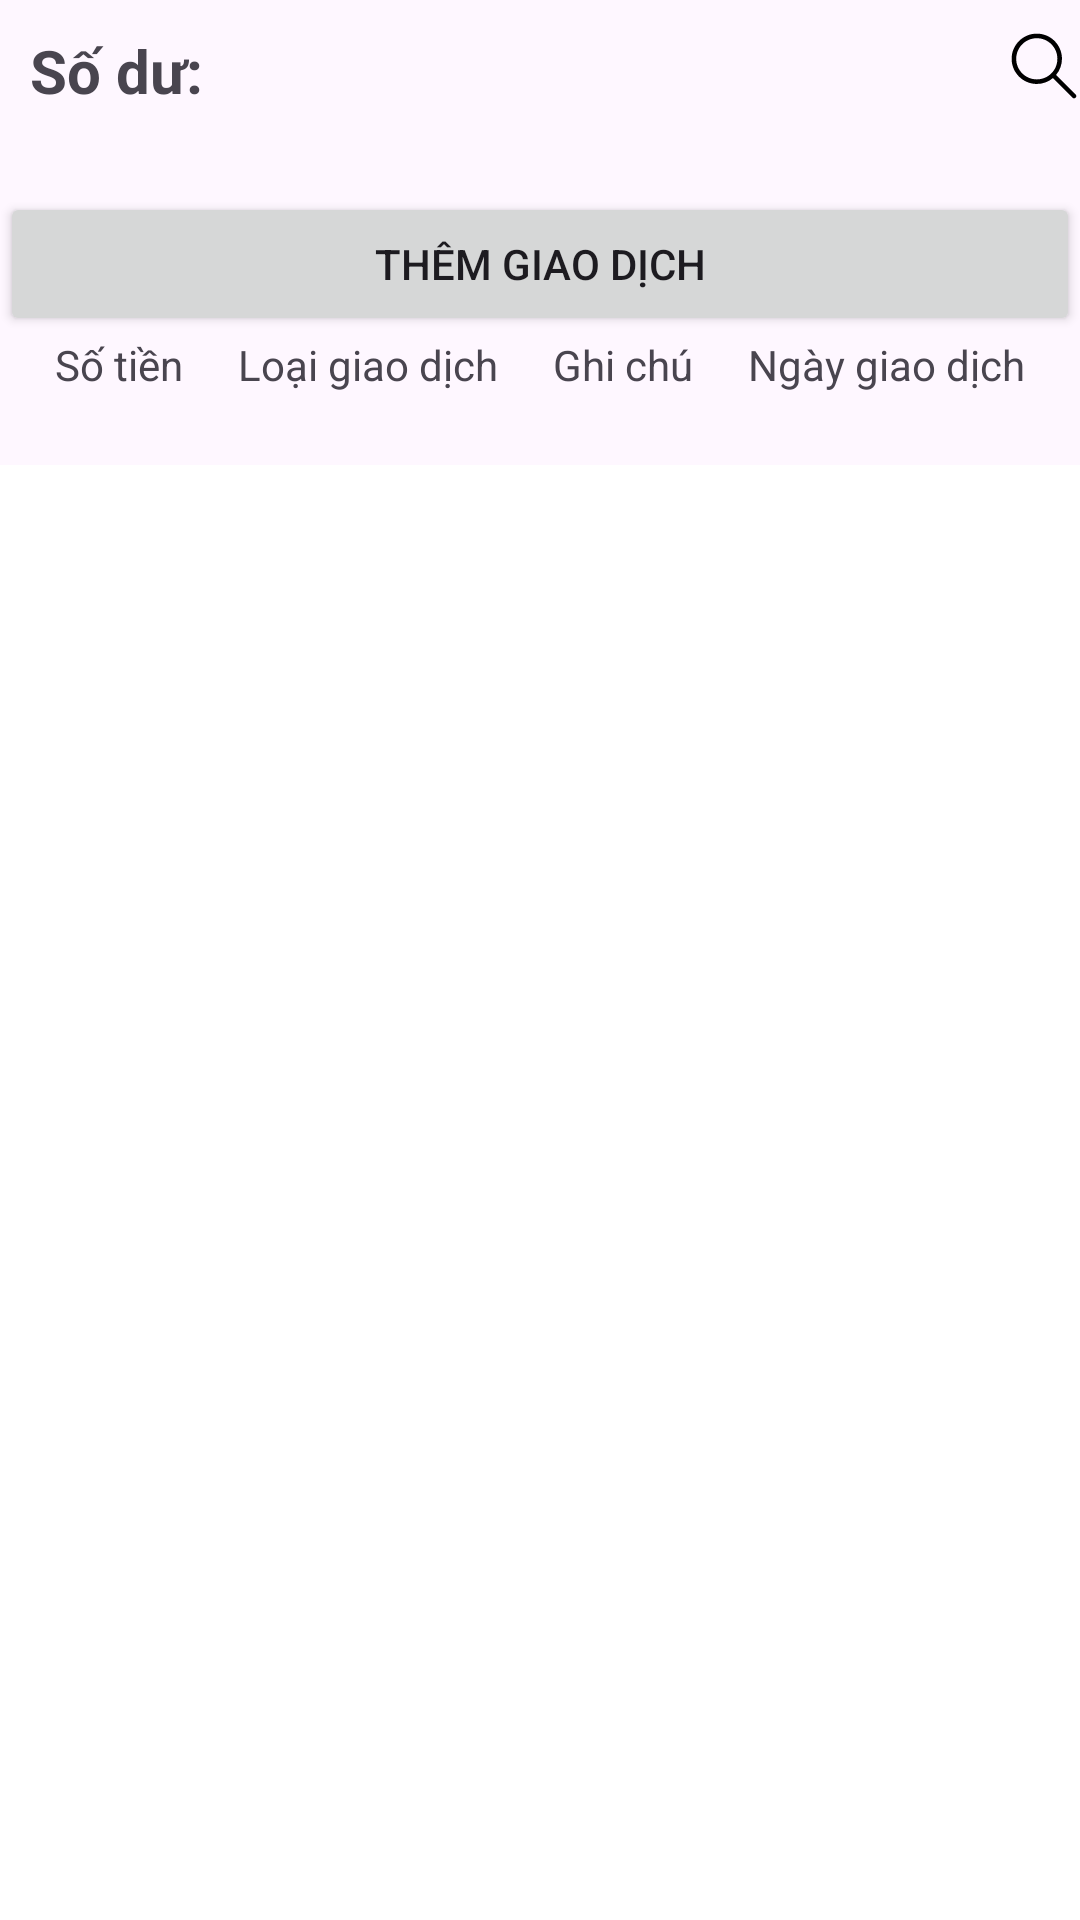

Locate icon controls on the screen. Image size 1080px x 1920px, boxes as (x1, y1, x2, y2).
search: (1011, 33, 1077, 99)
